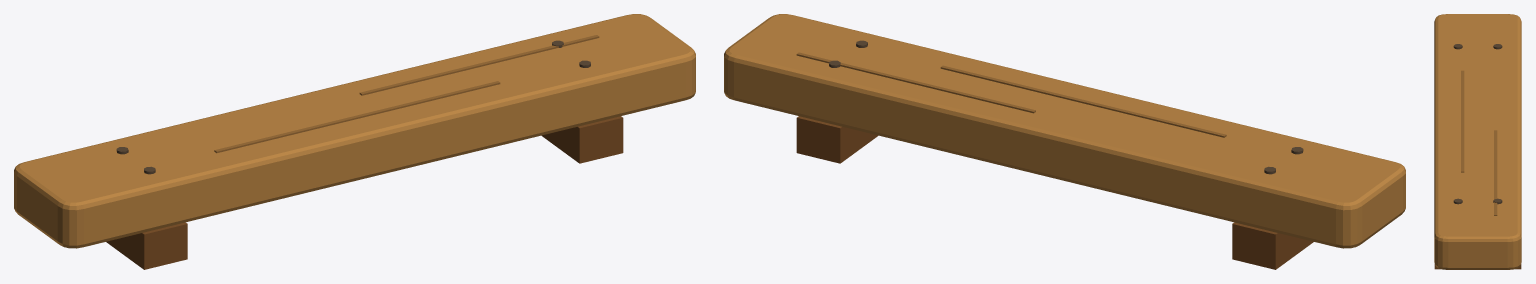
Rendered from bridge_plank_B.glb.
3 views of the same model, side by side, from view 1: azimuth 30°, elevation 25°; view 2: azimuth 150°, elevation 25°; view 3: azimuth 270°, elevation 25° (orthographic). The views are drawn at different scales.
Parts seen in each view (by area): view 1: bridge_plank_B; view 2: bridge_plank_B; view 3: bridge_plank_B.
Boxes of the visible parts, x1=… form: bridge_plank_B: x1=14, y1=14, x2=695, y2=269; bridge_plank_B: x1=724, y1=14, x2=1405, y2=269; bridge_plank_B: x1=1434, y1=14, x2=1521, y2=269.
Bounding box in the file's own units: 2.63 × 0.33 × 0.43.
